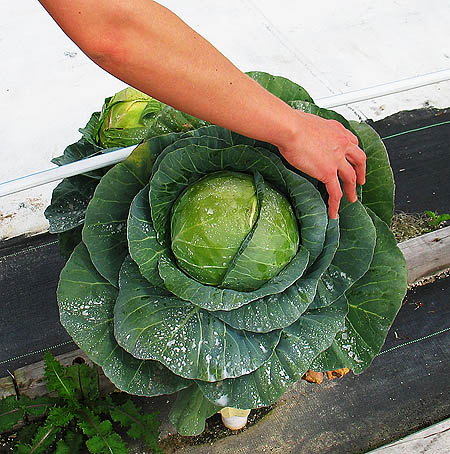cabbage: (50, 61, 415, 440)
